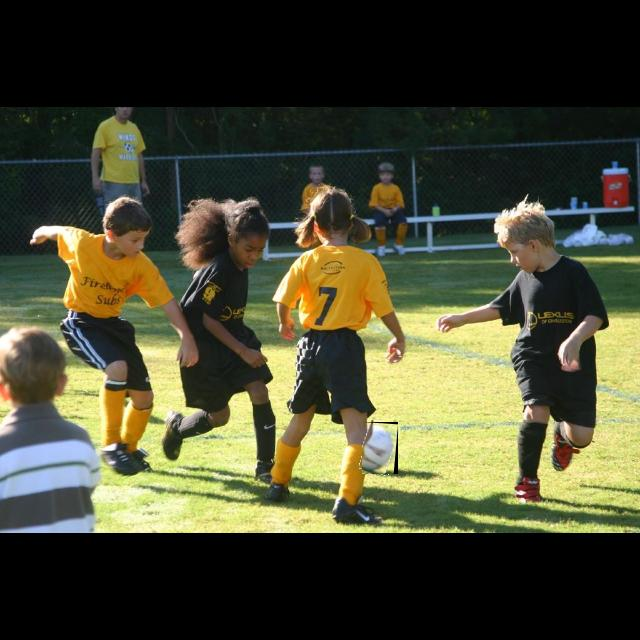Football: (362, 422, 398, 474)
